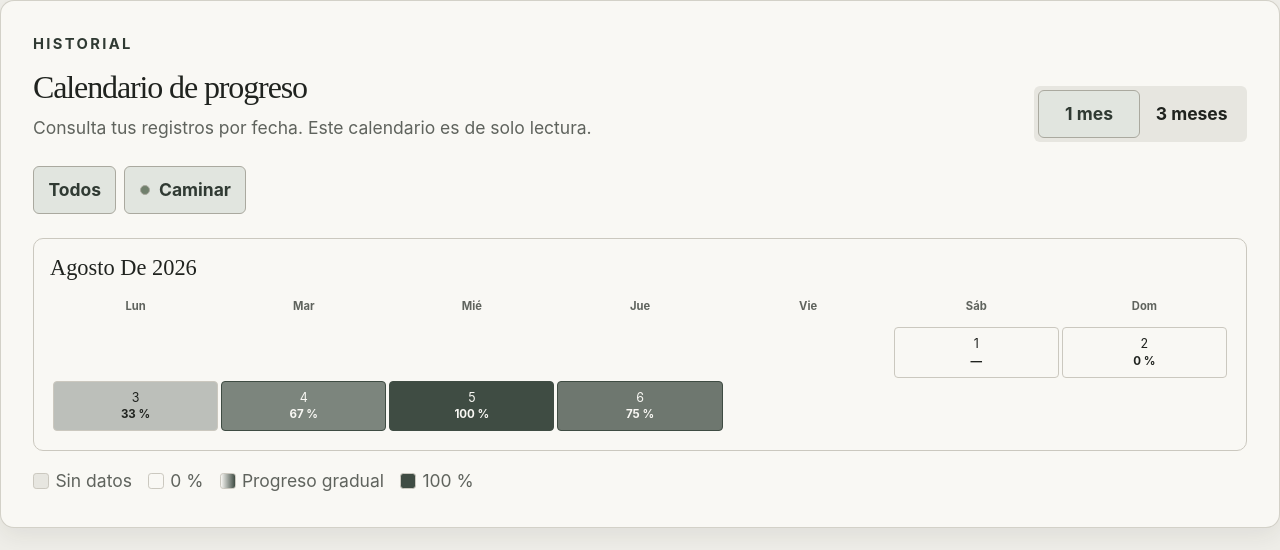
Test: ProgressHeatmap › does not fetch when no habit is selected
This screenshot has width=1280, height=550.
Expected: the table is shown, [50, 294, 1230, 434]
Click the button "Caminar".
click(185, 190)  # box [124, 166, 246, 214]
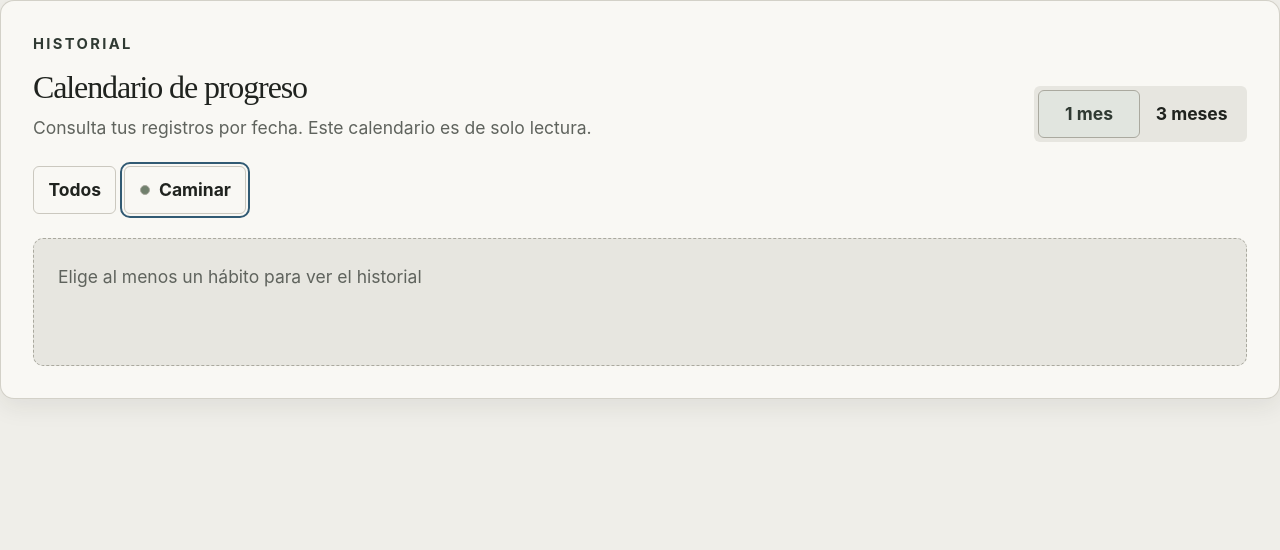
Result: the text "Elige al menos un hábito para ver el historial" is shown at [33, 238, 1247, 366]
